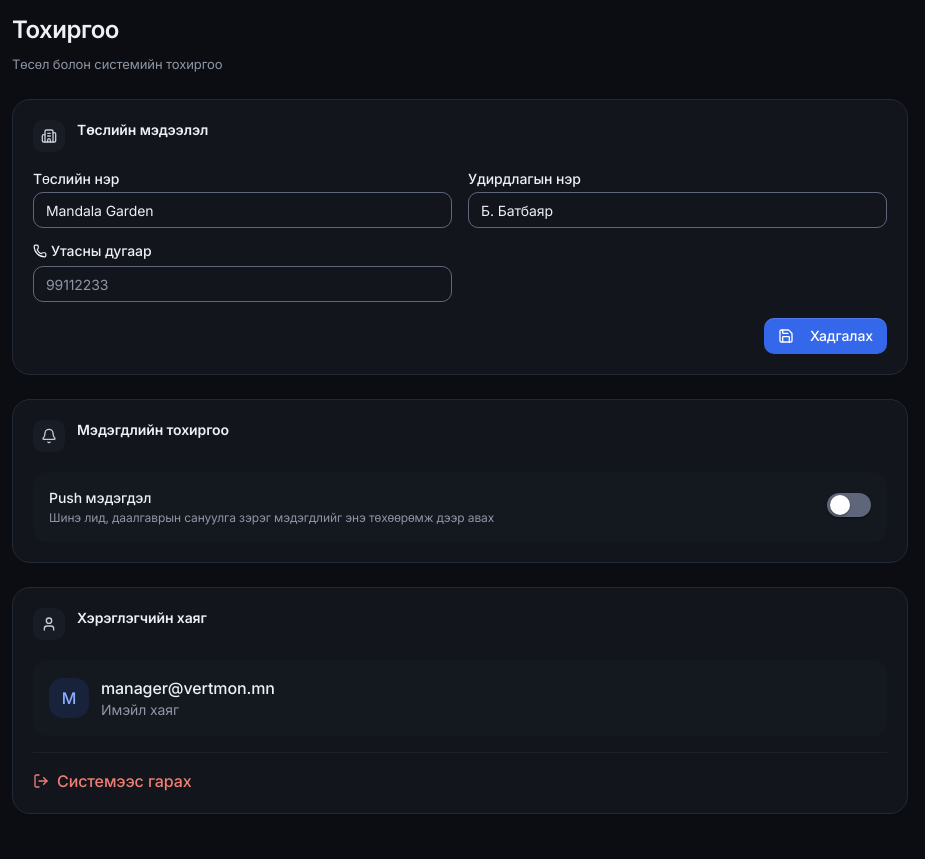
settings page › shows the server error inline in Mongolian and never reports success
The width and height of the screenshot is (925, 859).
Click the button "Хадгалах". click: (826, 336)
box: x1=764 y1=318 x2=887 y2=354
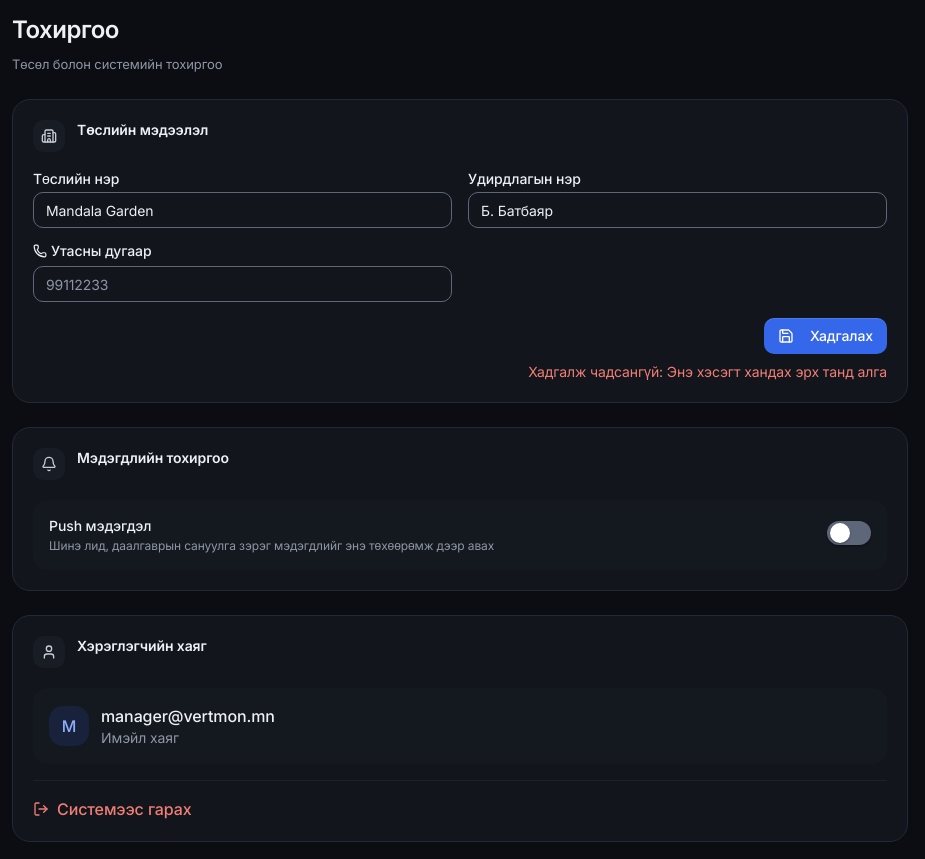
Expected: the message reads "Хадгалж чадсангүй: Энэ хэсэгт хандах эрх танд алга", x1=528 y1=363 x2=887 y2=380
